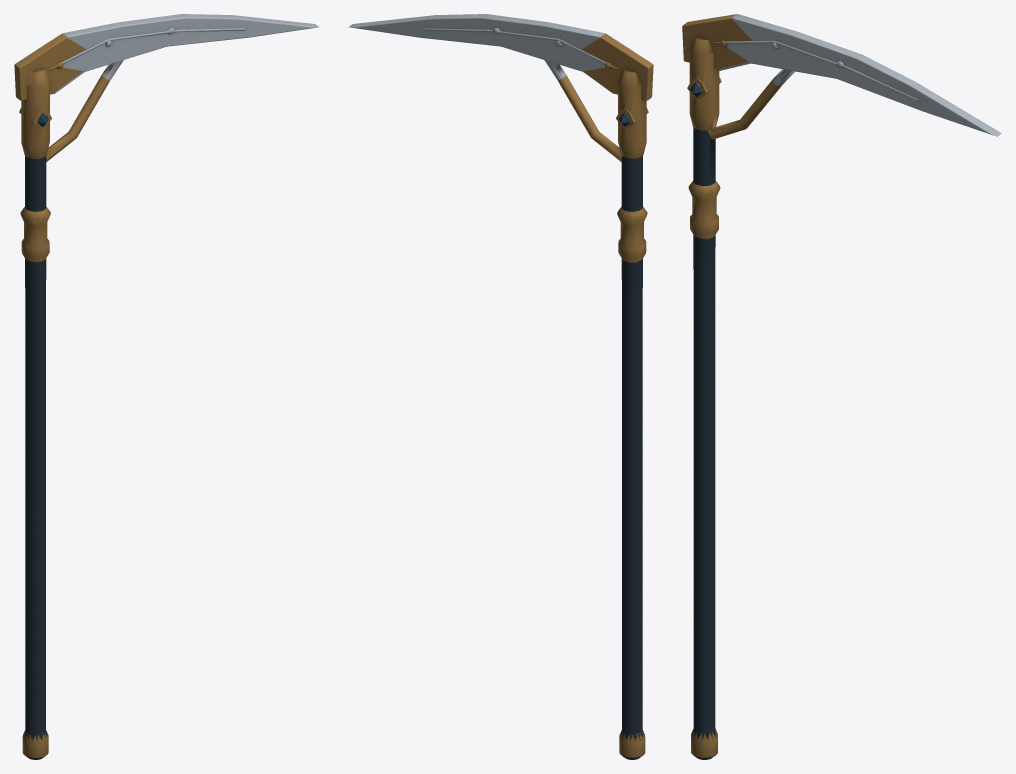
File: scythe-crafted.glb
3 views of the same model, side by side, from view 1: azimuth 30°, elevation 25°; view 2: azimuth 150°, elevation 25°; view 3: azimuth 330°, elevation 25° (orthographic). The views are drawn at different scales.
Visible parts, largest first — view 1: scythe-crafted; view 2: scythe-crafted; view 3: scythe-crafted.
Part boxes in pixels (x1,y1,x2,y2): scythe-crafted: (14, 14, 318, 759); scythe-crafted: (349, 14, 653, 759); scythe-crafted: (682, 14, 1001, 759).
Size of the model in its own units: 0.7711 by 1.75 by 0.096.
Materials: 1 (1 with a texture image).
